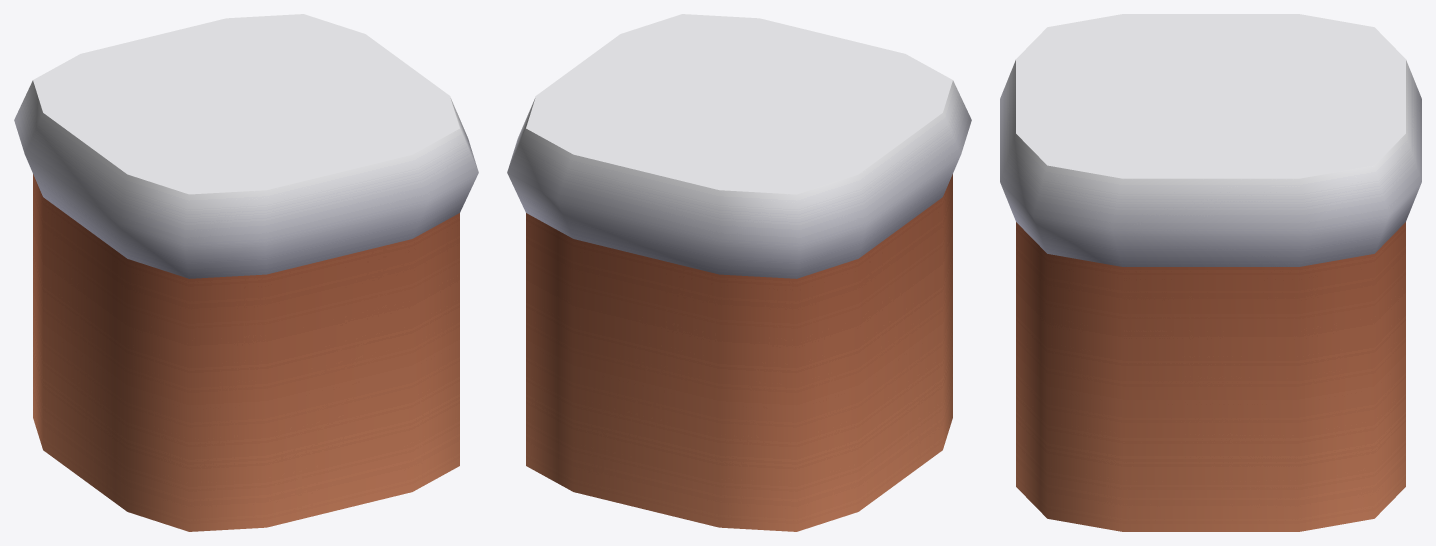
Rendered from block-snow.glb.
3 views of the same model, side by side, from view 1: azimuth 30°, elevation 25°; view 2: azimuth 150°, elevation 25°; view 3: azimuth 270°, elevation 25° (orthographic). The views are drawn at different scales.
Visible parts, largest first — view 1: block-snow; view 2: block-snow; view 3: block-snow.
Boxes of the visible parts, x1,y1,x2,y2 form: block-snow: (14,14,478,531); block-snow: (507,14,971,531); block-snow: (1000,14,1421,531).
Bounding box in the file's own units: 1.08 × 1 × 1.08.
1 material, 1 textured.
